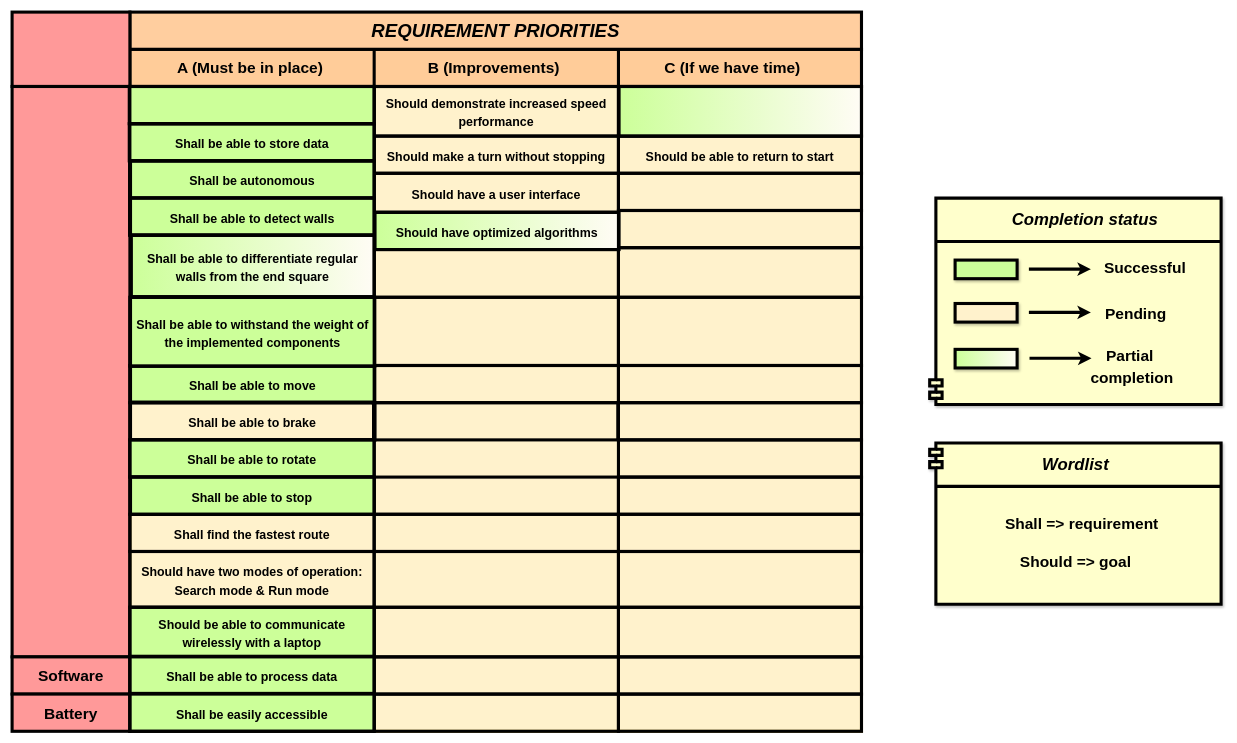
Image size: 1237x743. Some labels were removed from this diagram. The centre of each missing label's shape, as x and y in pixels:
ELEMENTS: the point at 70,49
Micromouse: the point at 70,371
Shall be able to receive data: the point at 251,105
Shall do a celebration when it reaches its goal: the point at 740,111
